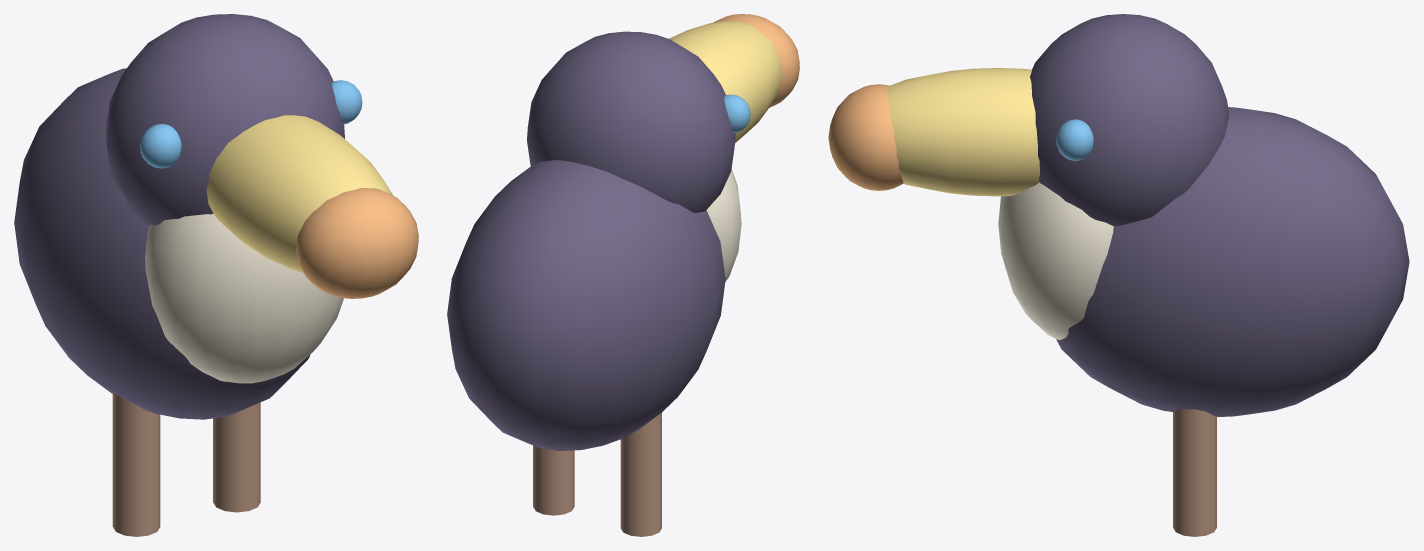
Rendered from st_rain_toucan.glb.
The picture shows the model from 3 angles, left to right: view 1: azimuth 30°, elevation 25°; view 2: azimuth 150°, elevation 25°; view 3: azimuth 270°, elevation 25°; orthographic projection. The views are drawn at different scales.
Visible parts, largest first — view 1: Toucan_Friend; view 2: Toucan_Friend; view 3: Toucan_Friend.
Boxes of the visible parts, x1,y1,x2,y2 form: Toucan_Friend: [14, 14, 418, 536]; Toucan_Friend: [447, 14, 799, 536]; Toucan_Friend: [828, 14, 1409, 536].
Bounding box in the file's own units: 0.44 × 0.89 × 0.975.
